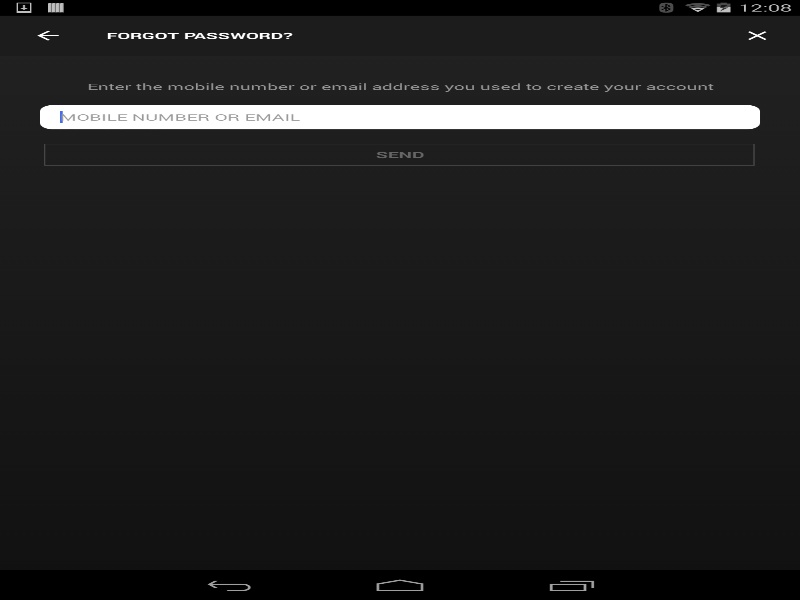Button: (40, 141, 760, 168), (10, 15, 85, 55)
Input: (40, 105, 760, 129)
